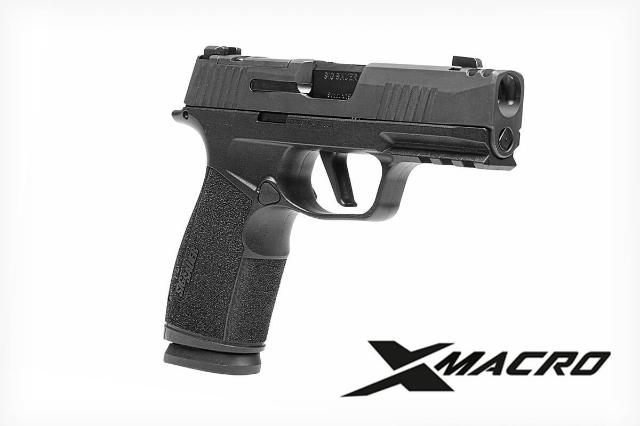handgun: (154, 40, 532, 382)
